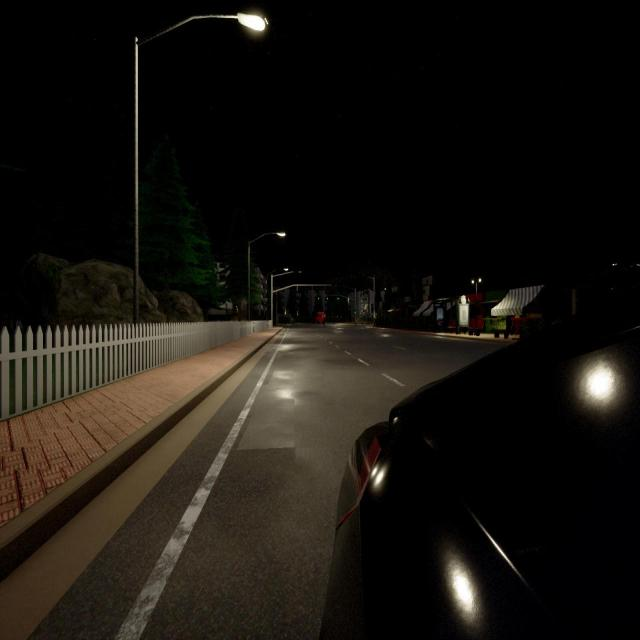Pedestrian: (322, 316, 326, 328)
Vehicle: (320, 289, 640, 640), (312, 312, 326, 324)
traffic_light: (337, 296, 340, 300), (354, 310, 356, 315), (318, 296, 320, 300), (297, 285, 298, 291), (327, 295, 328, 300)
